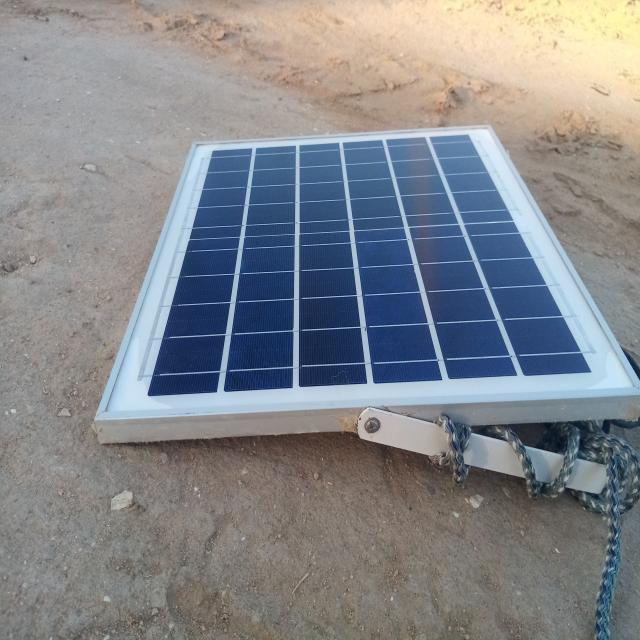no faulty: (95, 127, 640, 418)
